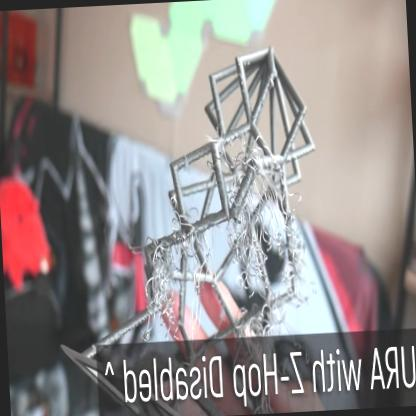fail: (231, 168, 291, 287), (148, 250, 180, 312)
